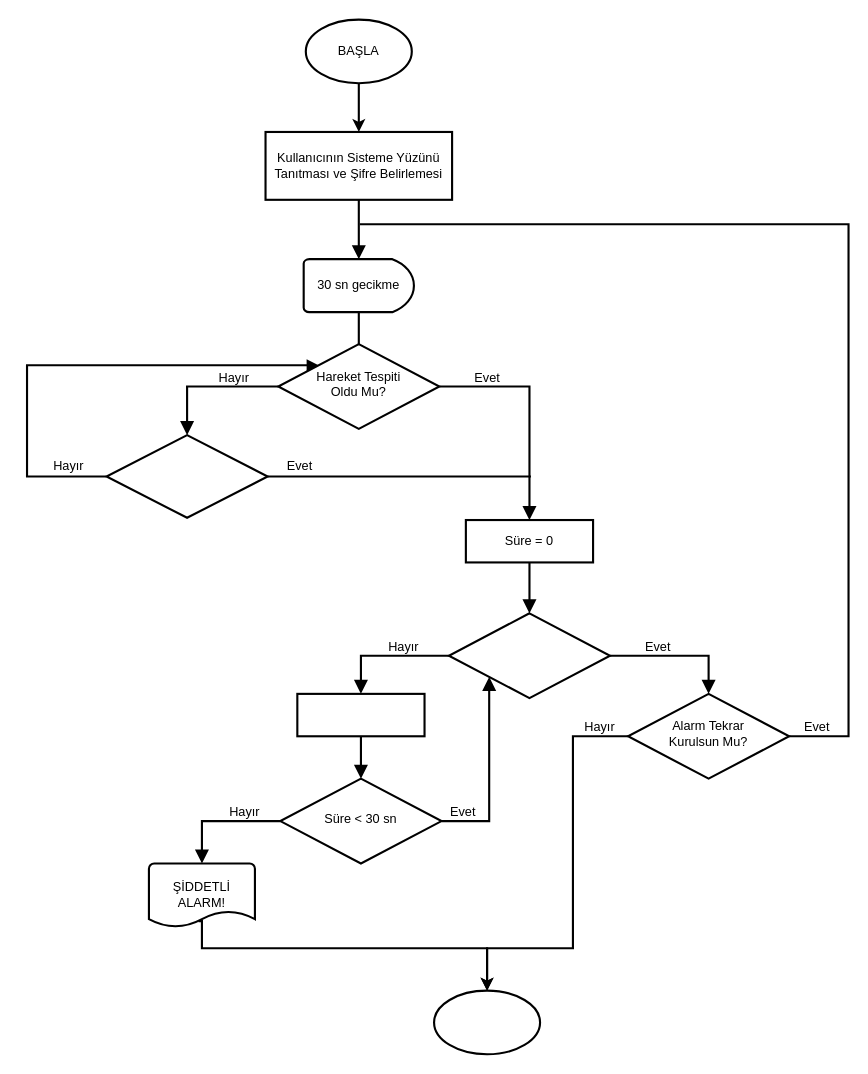
The diagram is 868 pixels wide and 1074 high, and some of its shapes have lost their labels. Here are the shapes that lost their labels. From the top down, the box of each, then its label:
(105, 434, 268, 518): Keypad Üzerinde *'a Basıldı Mı?
(447, 612, 611, 699): Yüz Tanıma veya Şifre onaylandı mı?
(296, 692, 425, 737): Süre = Süre + 1
(432, 989, 541, 1055): SON
